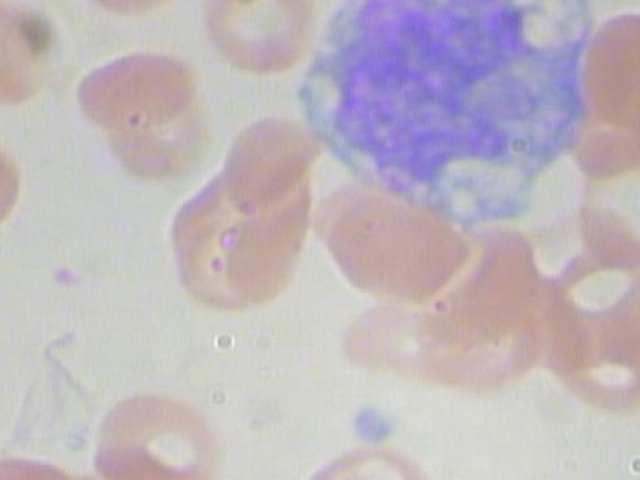Platelets: (343, 397, 407, 446)
RBC: (144, 184, 296, 311), (324, 183, 466, 318), (92, 380, 245, 480), (68, 30, 205, 134), (523, 306, 640, 422), (220, 101, 323, 224), (192, 0, 322, 94), (576, 10, 640, 145), (0, 0, 74, 114), (293, 442, 441, 480), (0, 107, 37, 234), (70, 0, 212, 28), (618, 426, 640, 480)
WBC: (310, 0, 605, 234)
